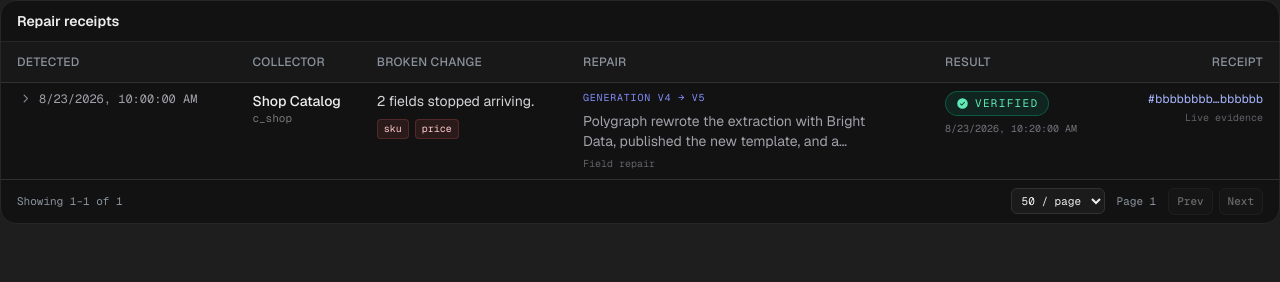
RepairsTable — a repair row expands into its receipt › falls back to a plain sentence when the server sent no detail, rather than an empty panel
This screenshot has width=1280, height=282.
What coordinates should you click on to do the following:
click the button named "show repair receipt"
I would click on:
 (25, 98)
Its box is [17, 90, 33, 106].
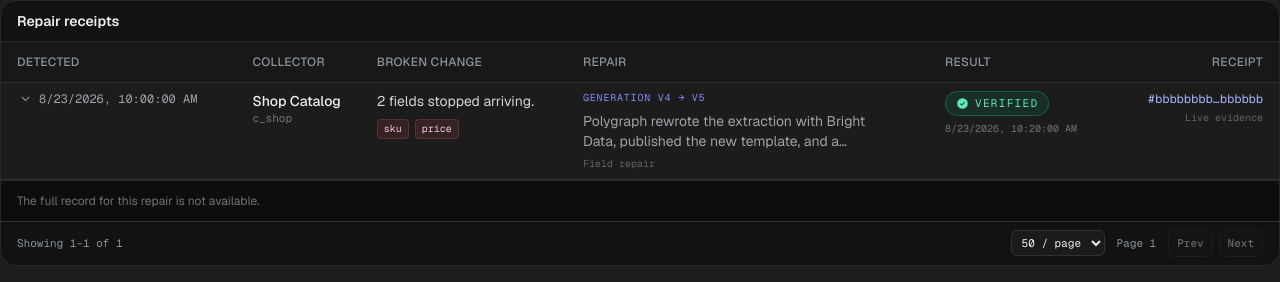
Check: the text "The full record for this repair is not available." is shown, box [1, 180, 1279, 221]
